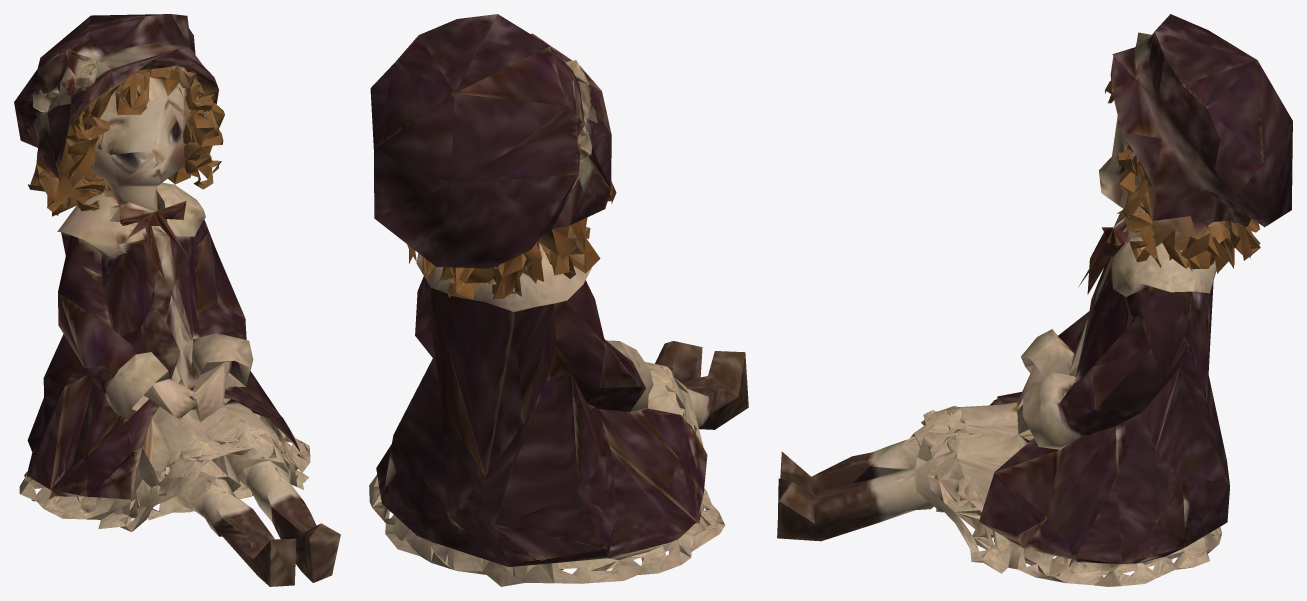
The model's file is up_doll_velvet.glb.
3 renders of one model, left to right at view 1: azimuth 30°, elevation 25°; view 2: azimuth 150°, elevation 25°; view 3: azimuth 270°, elevation 25°, orthographic. The views are drawn at different scales.
Visible parts, largest first — view 1: up_doll_velvet; view 2: up_doll_velvet; view 3: up_doll_velvet.
Part boxes in pixels (x1,y1,x2,y2): up_doll_velvet: [14, 14, 340, 586]; up_doll_velvet: [369, 14, 748, 586]; up_doll_velvet: [777, 14, 1292, 586].
Bounding box in the file's own units: 0.3403 × 0.55 × 0.5083.
1 material, 1 textured.
